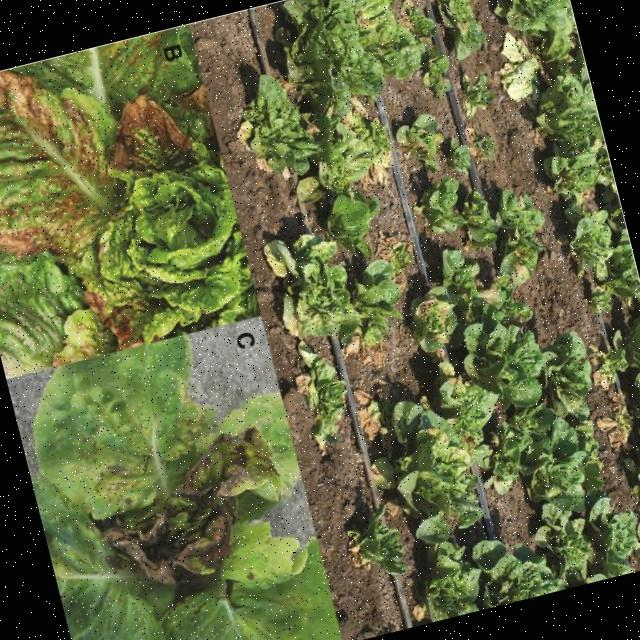Viral: (0, 43, 245, 366), (37, 380, 318, 640)
